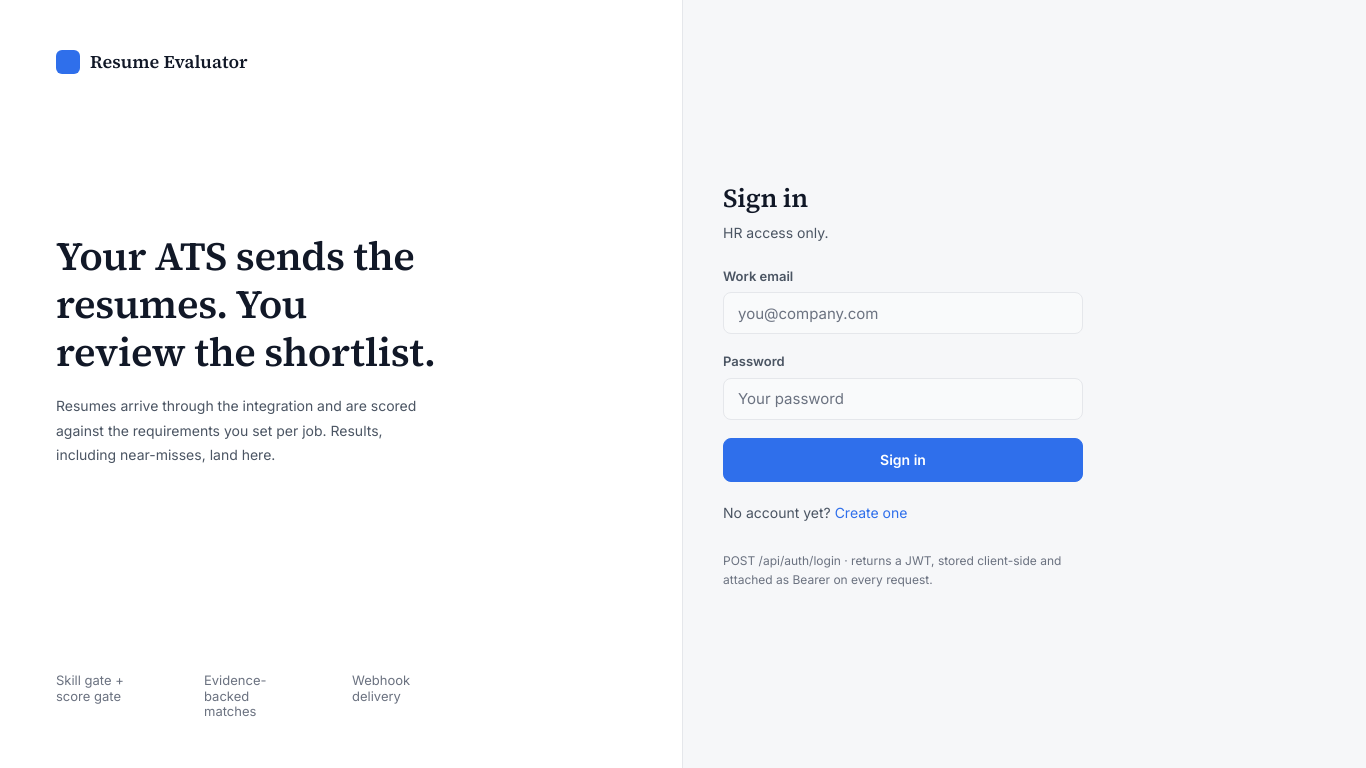
Test: Phase 6 - Login screen › empty form: client-side errors, and no request is sent
Click the button "Sign in": (903, 460) top-left (723, 438), bottom-right (1083, 482)
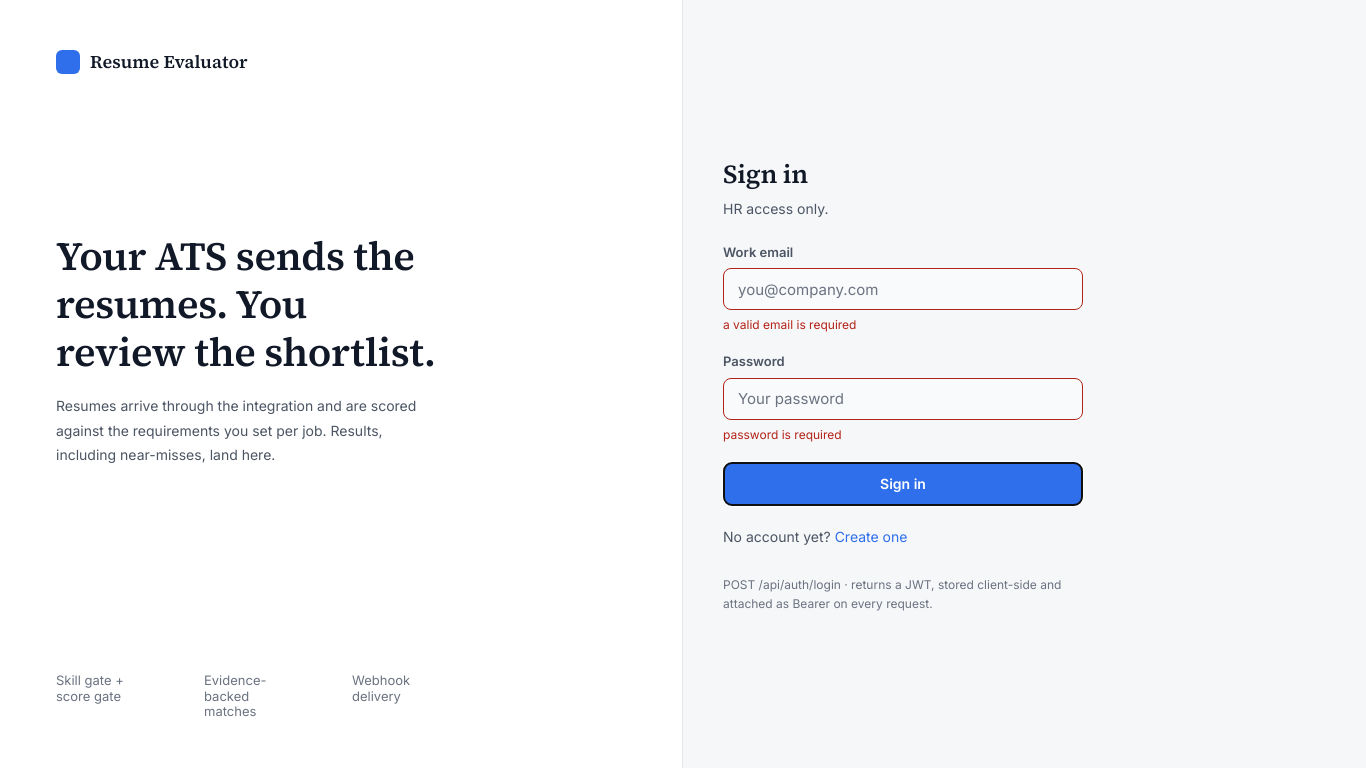
Check: the text "a valid email is required" is shown, box top-left (723, 317), bottom-right (856, 332)
Check: the text "password is required" is shown, box top-left (723, 427), bottom-right (842, 442)
